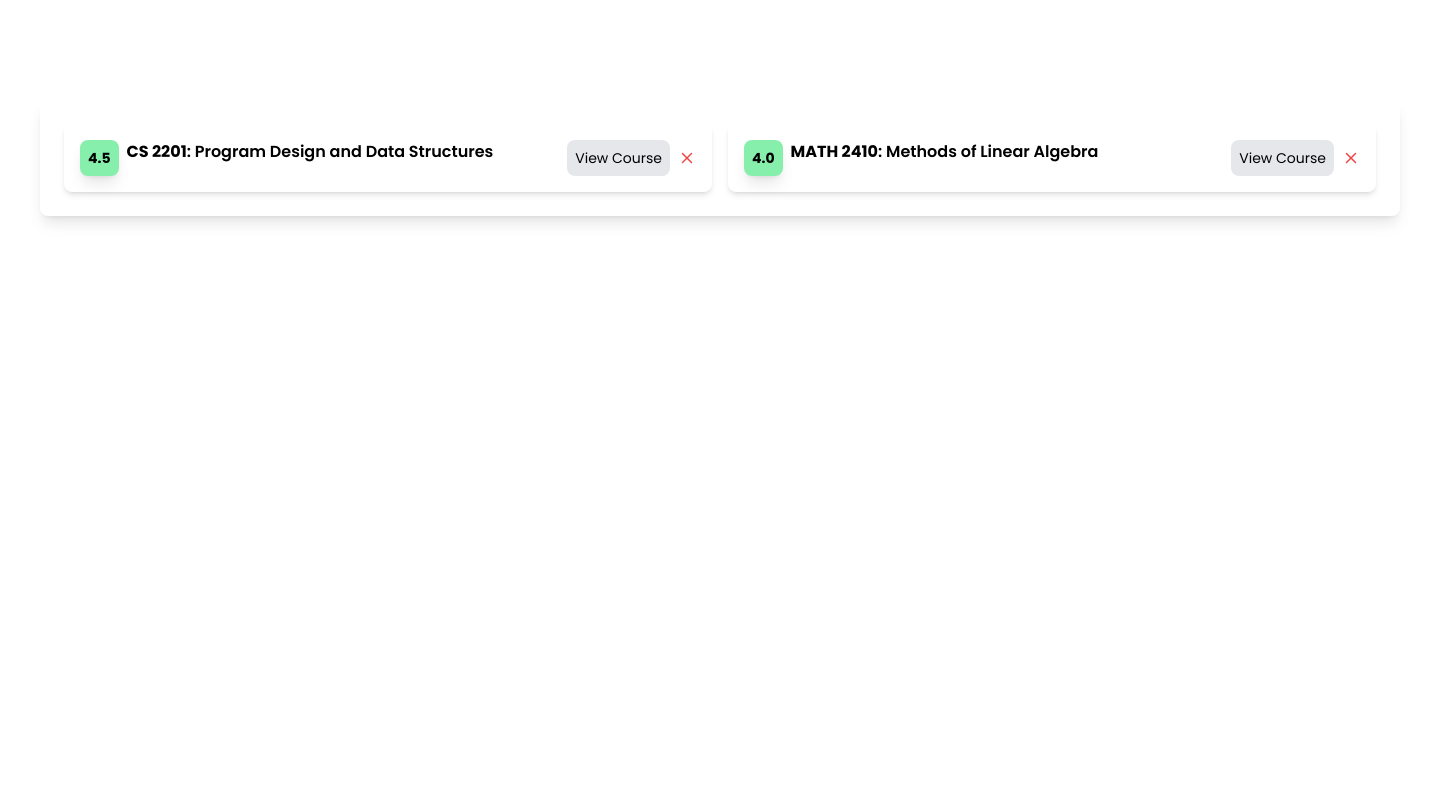
Test case: SavedCourses page › should open confirmation dialog when removing a course
Expected: the text "CS 2201" is shown, [126,140,187,163]
Note: Click the unsave-button
Click the button with test id "unsave-button" in the row of "Program Design and Data Structures" at (687, 158), box [678,149,696,167]
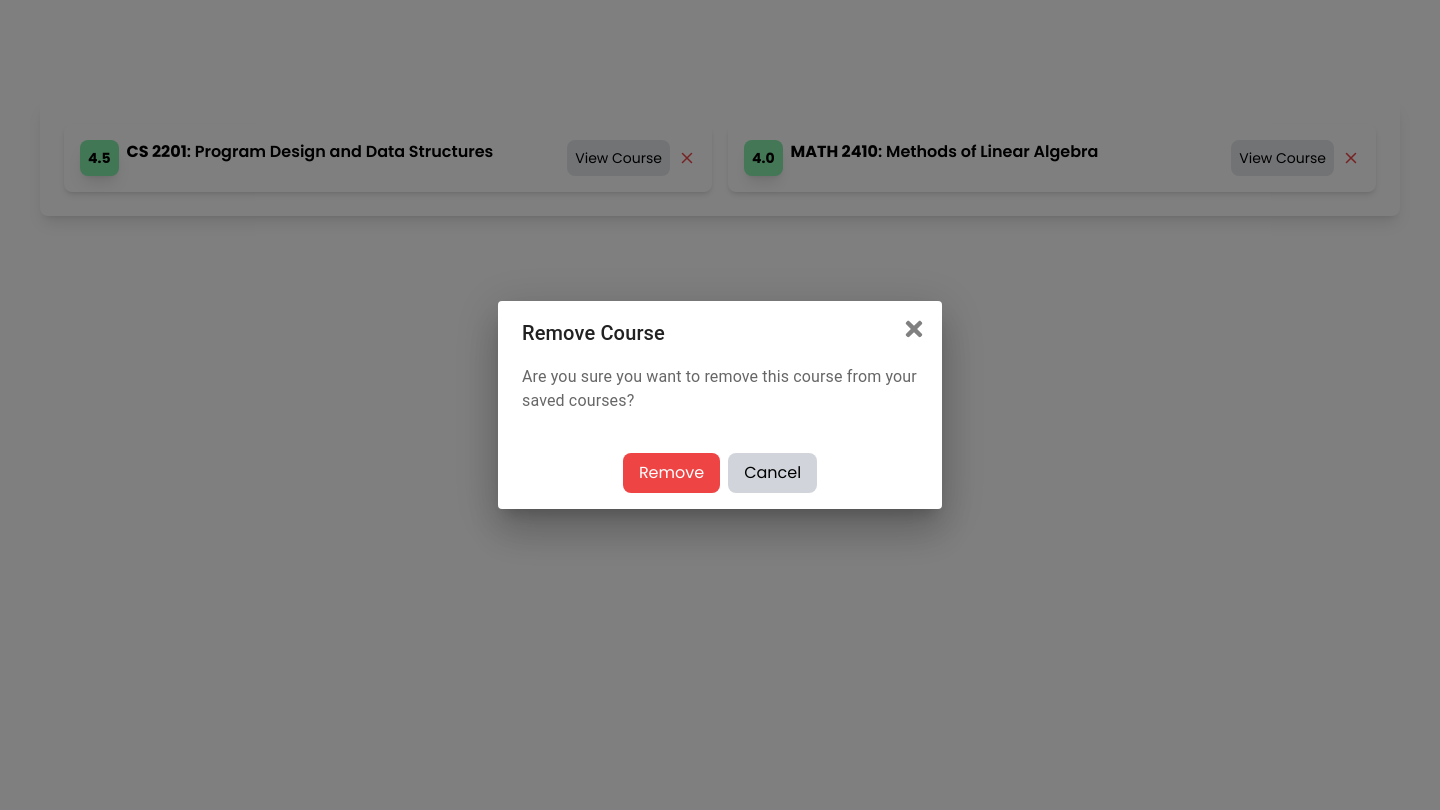
Expected: the text "Are you sure you want to remove this course" is shown, [522,367,917,410]
Note: Close the dialog
Click the button "Cancel" at (773, 473), box [728,453,817,493]
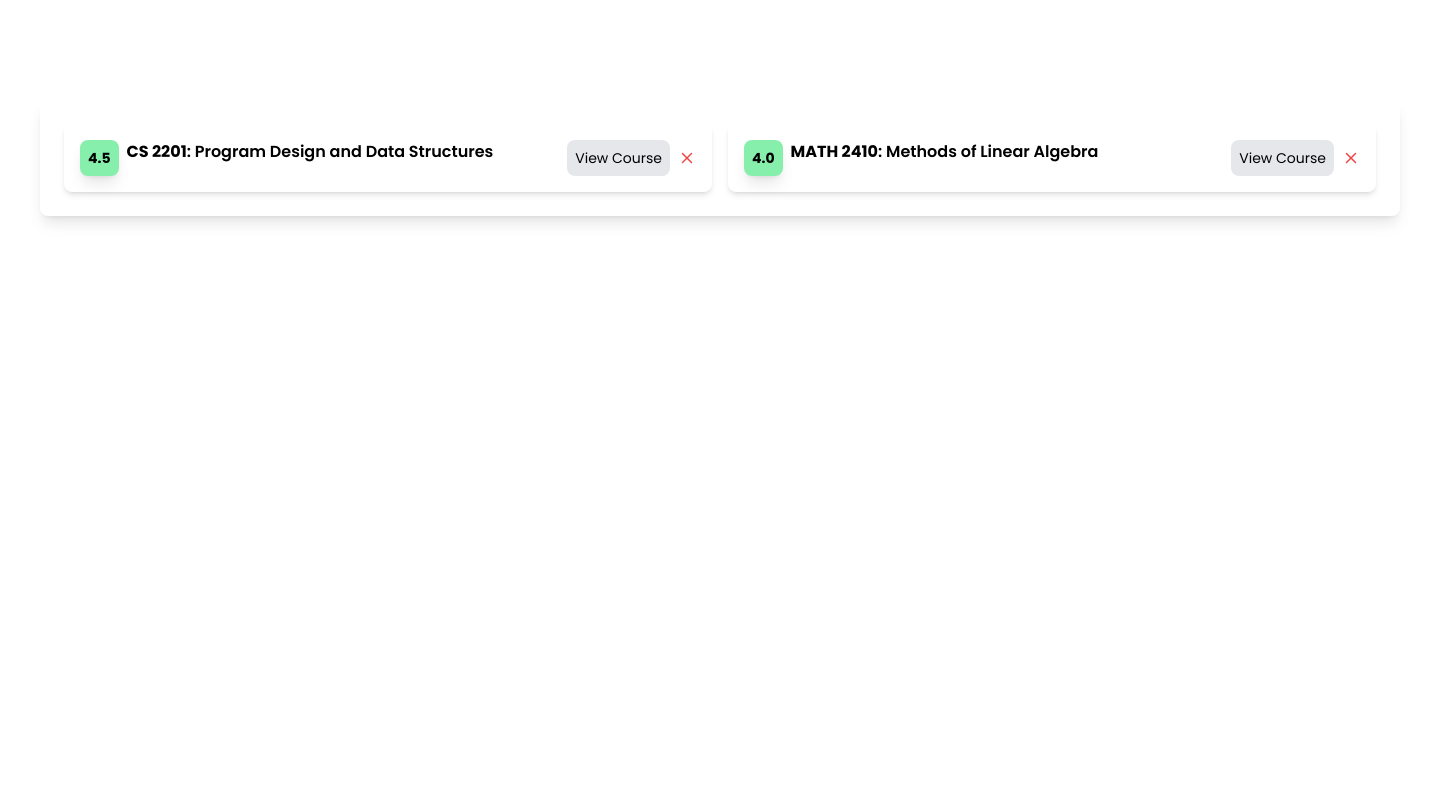
Expected: the text "Are you sure you want to remove this course" is gone
